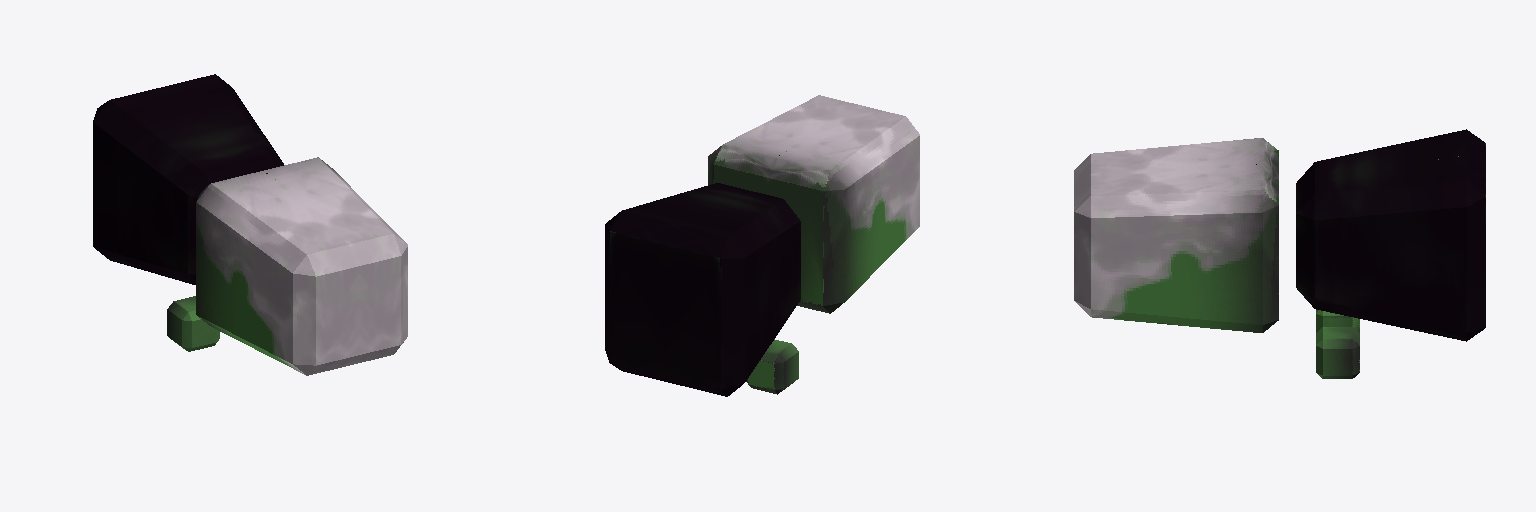
3 renders of one model, left to right at view 1: azimuth 30°, elevation 25°; view 2: azimuth 150°, elevation 25°; view 3: azimuth 270°, elevation 25°, orthographic.
Visible parts, largest first — view 1: Cube.004_Cube.001; view 2: Cube.004_Cube.001; view 3: Cube.004_Cube.001.
Part boxes in pixels (left/top/right/bottom): Cube.004_Cube.001: left=93, top=74, right=407, bottom=375; Cube.004_Cube.001: left=605, top=95, right=919, bottom=396; Cube.004_Cube.001: left=1074, top=129, right=1485, bottom=378.
Size of the model in its own units: 1.3 by 1.78 by 3.3.
1 materials, 1 textured.